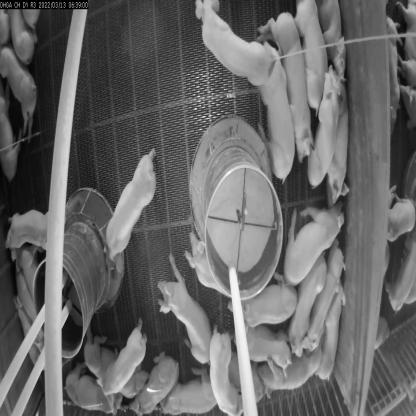Pig: (258, 14, 316, 162), (104, 148, 162, 263), (197, 0, 270, 89), (155, 255, 210, 368), (250, 47, 296, 180), (285, 204, 343, 286), (0, 38, 43, 140), (292, 0, 326, 108), (99, 324, 146, 398), (1, 200, 65, 253), (307, 73, 336, 188), (306, 250, 340, 348), (209, 324, 244, 414), (241, 275, 296, 332), (294, 249, 323, 357), (186, 232, 234, 295), (132, 353, 179, 416), (156, 382, 220, 416), (240, 335, 284, 376)
